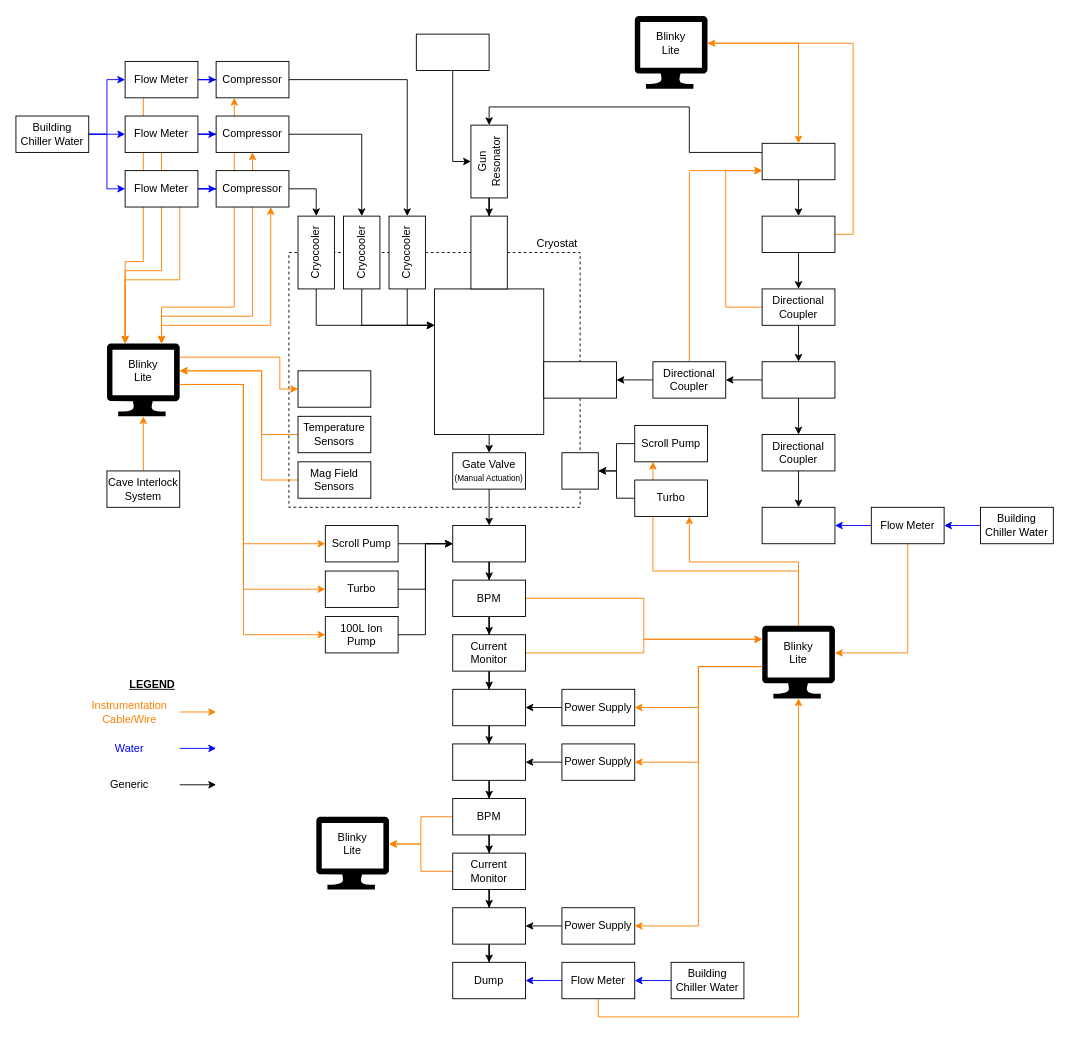
Some shapes in this 1069 by 1040 pixel diagram are drawn without their labels. Here are the shapes that lost their labels. From the top down, the box of each, then its label:
(415, 33, 489, 71): DC HV Bias Supply
(761, 142, 835, 180): LLRF
(470, 215, 507, 289): RF Gun
(761, 215, 835, 253): Solid State
(434, 288, 544, 435): SRF Cavity
(543, 361, 617, 398): RF Coupler
(761, 361, 835, 398): Circulator
(297, 370, 371, 407): Heaters
(561, 452, 598, 489): Vac Port
(452, 525, 526, 562): Beamline Vacuum Tee
(761, 506, 835, 544): Dummy Load
(452, 688, 526, 726): Solenoid
(452, 743, 526, 780): 90 Degree Bend
(452, 907, 526, 944): Quad Doublet
